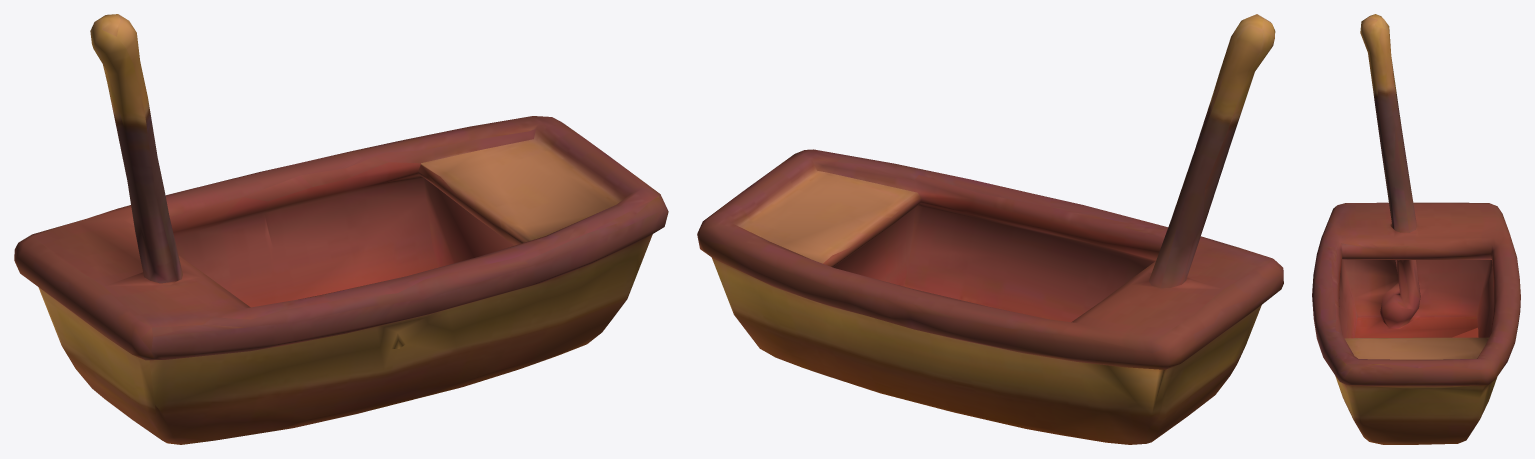
The model's file is lg-mire-boat.glb.
3 renders of one model, left to right at view 1: azimuth 30°, elevation 25°; view 2: azimuth 150°, elevation 25°; view 3: azimuth 270°, elevation 25°, orthographic. The views are drawn at different scales.
Visible parts, largest first — view 1: geometry_0; view 2: geometry_0; view 3: geometry_0.
Boxes of the visible parts, box(x1,y1,x2,y2) form: geometry_0: box(14, 14, 668, 444); geometry_0: box(697, 14, 1283, 444); geometry_0: box(1312, 14, 1520, 444).
Bounding box in the file's own units: 1 × 0.7604 × 0.5122.
1 material, 1 textured.
